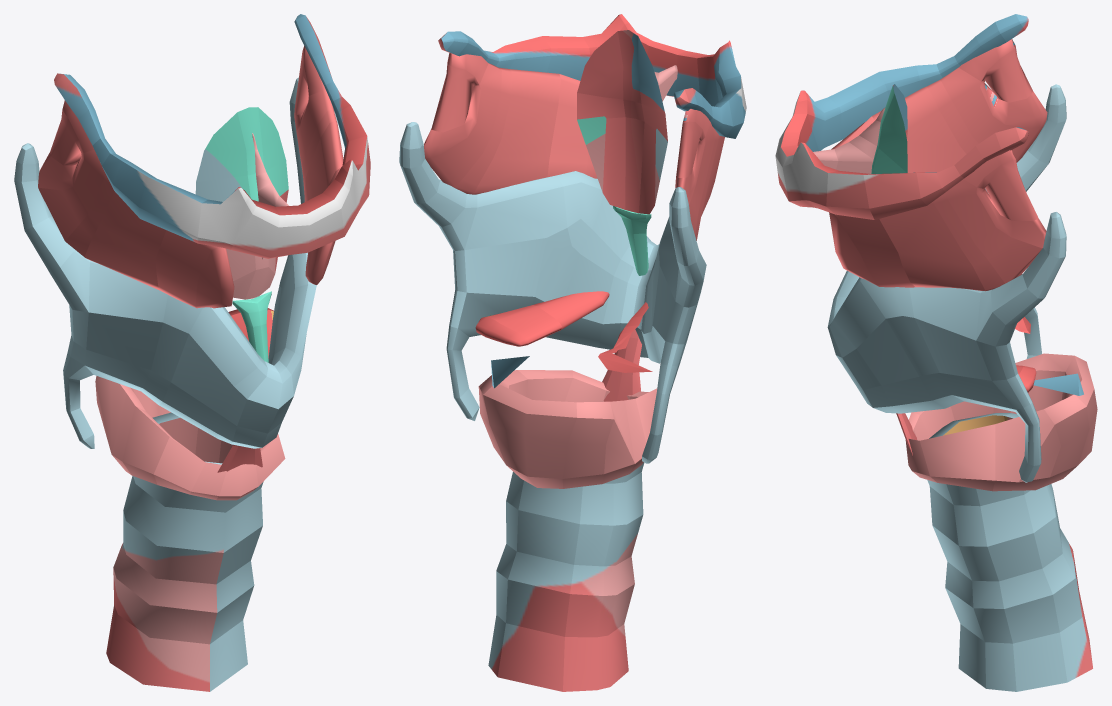
File: larynx.fbx
3 renders of one model, left to right at view 1: azimuth 30°, elevation 25°; view 2: azimuth 150°, elevation 25°; view 3: azimuth 270°, elevation 25°, orthographic. The views are drawn at different scales.
Parts seen in each view (by area): view 1: larynx; view 2: larynx; view 3: larynx.
Part boxes in pixels (x1,y1,x2,y2): larynx: [14, 14, 370, 691]; larynx: [399, 14, 746, 691]; larynx: [775, 14, 1097, 691].
Bounding box in the file's own units: 28.73 × 58.09 × 28.2.
1 material, 1 textured.
